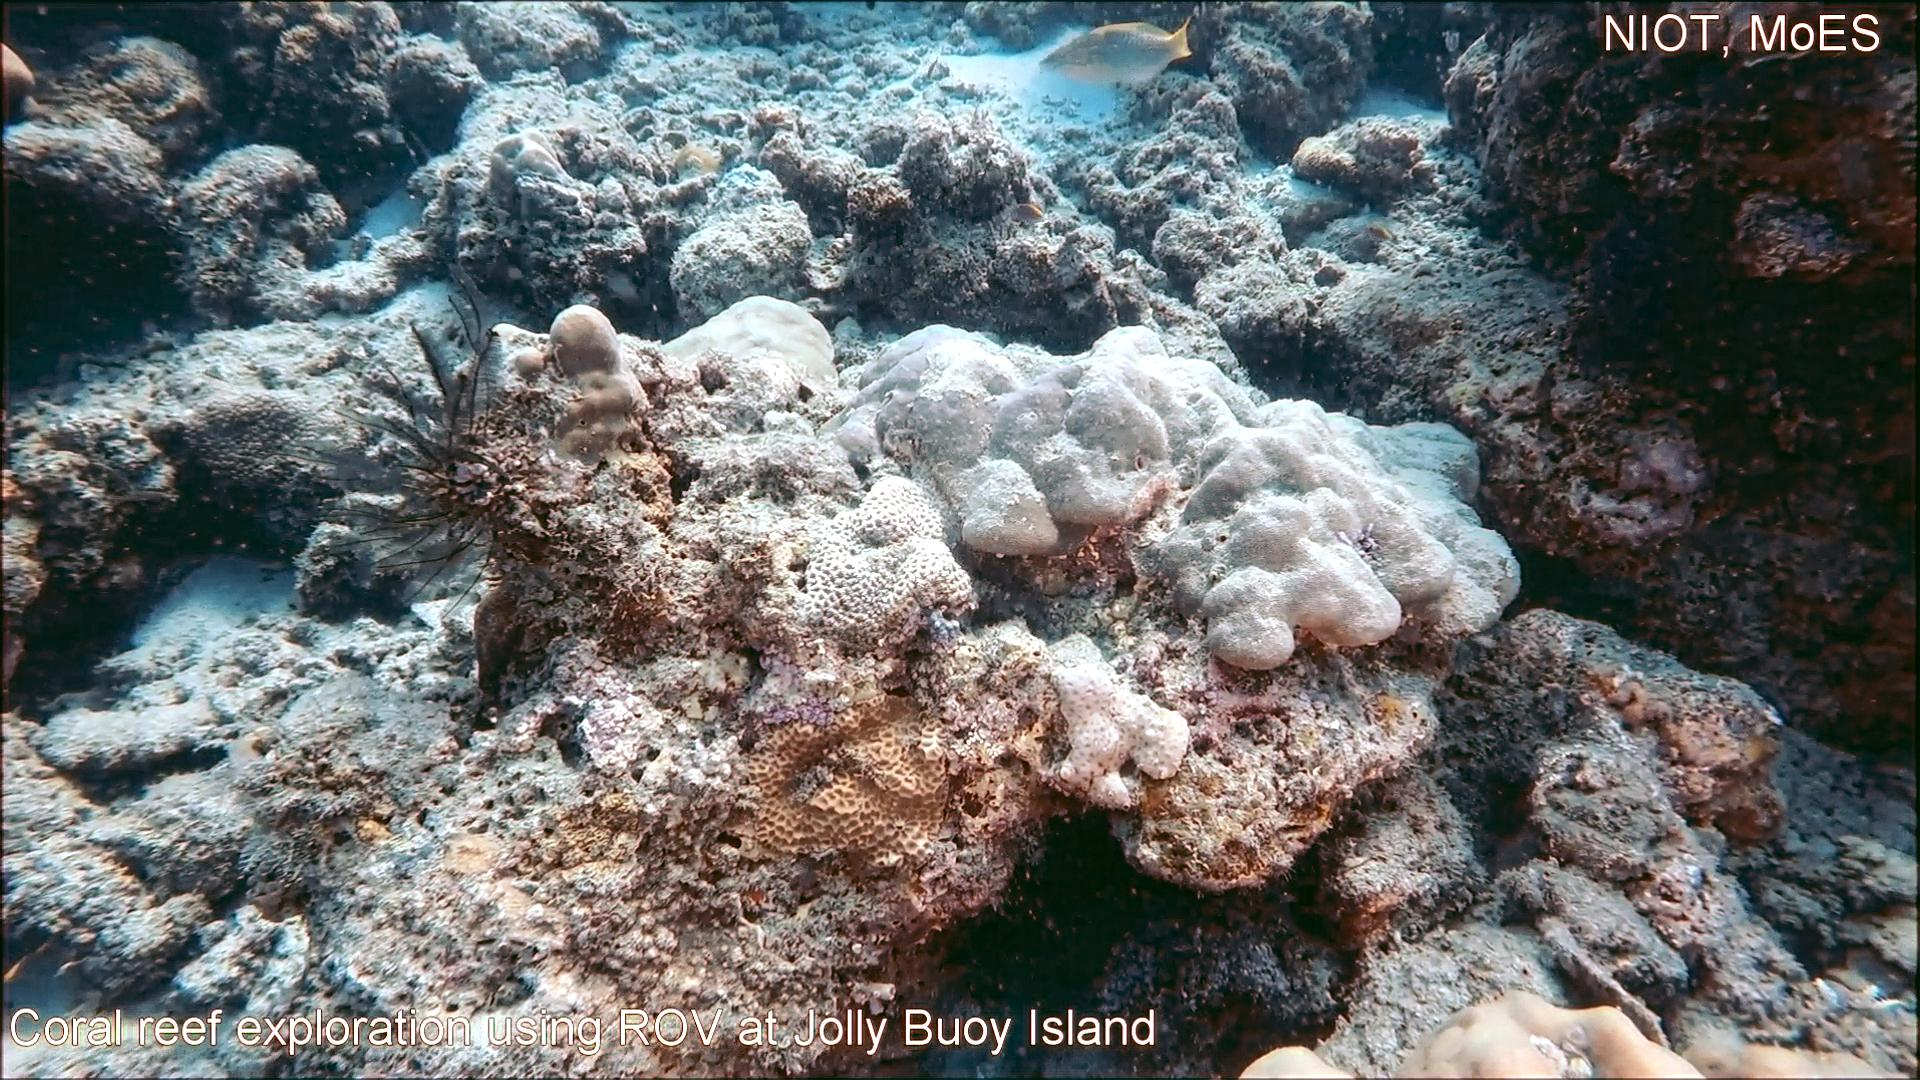Feather star-Crinoid star: (261, 257, 518, 625)
Goniastrea-Goniastrea pectinata: (798, 467, 985, 661)
Porites-Porites pukoensis: (1060, 320, 1524, 673)
Turbinaria-Turbinaria stellulata: (178, 385, 324, 508)
